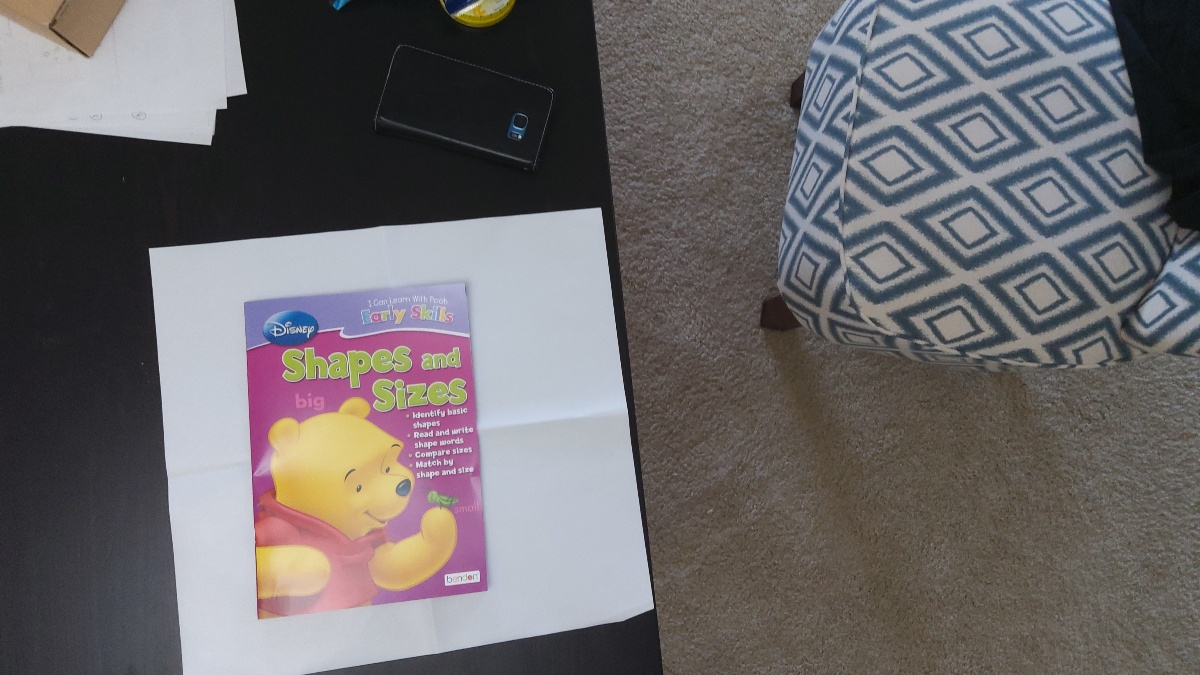book: (241, 304, 476, 602)
